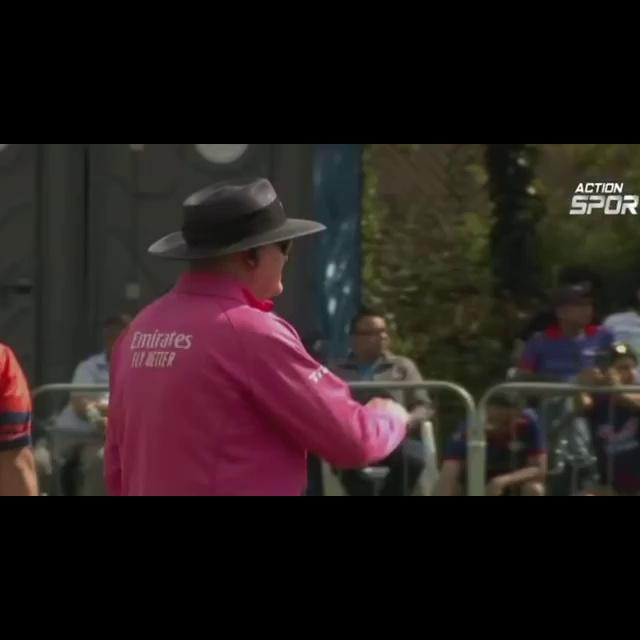umpire: (123, 188, 430, 495)
